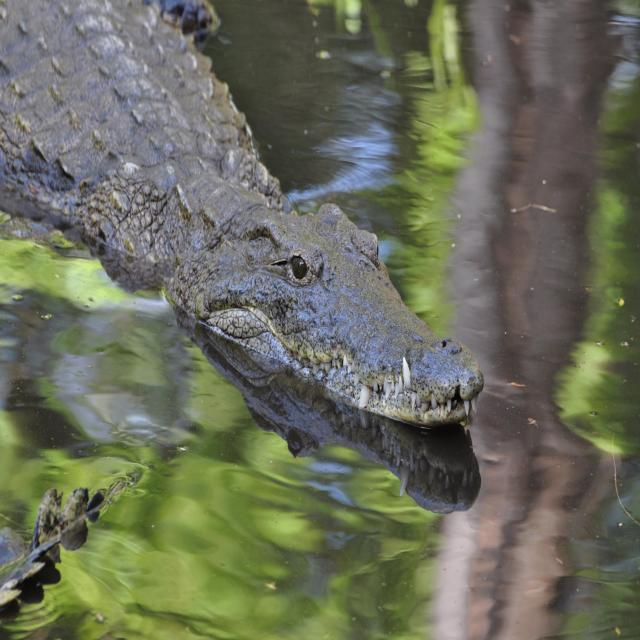crocodile: (0, 0, 573, 542)
